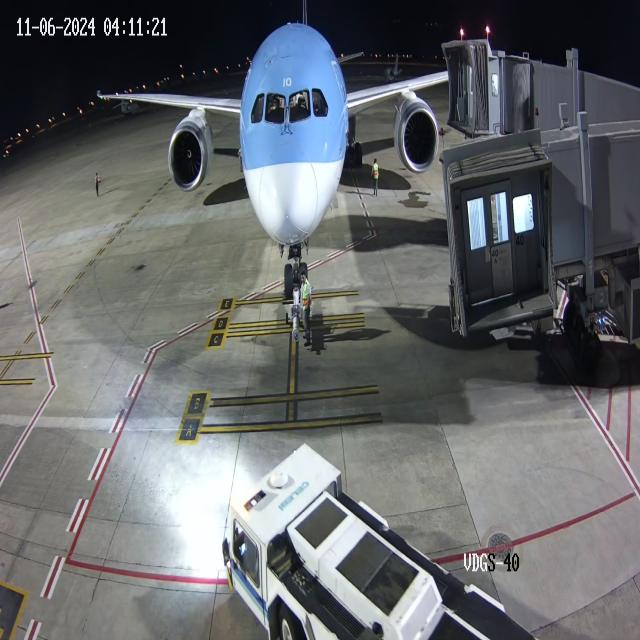bridge: (471, 32, 534, 140)
plane: (88, 1, 439, 305)
window: (248, 84, 334, 130)
